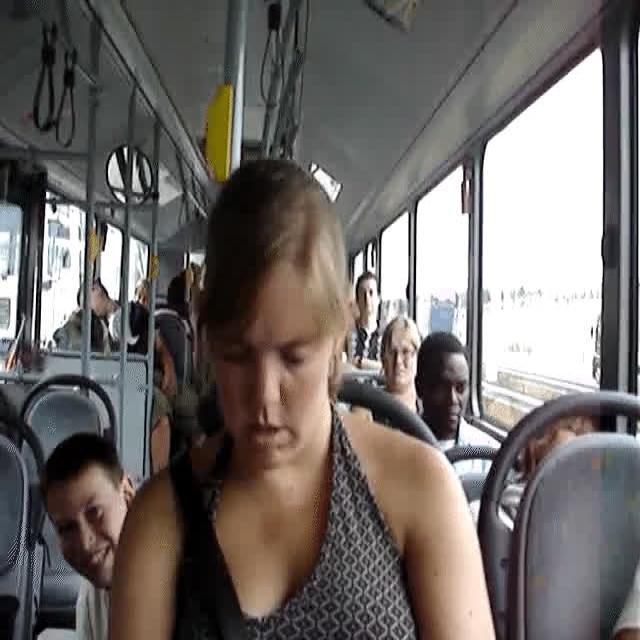no-seatbelt: (200, 155, 356, 471)
